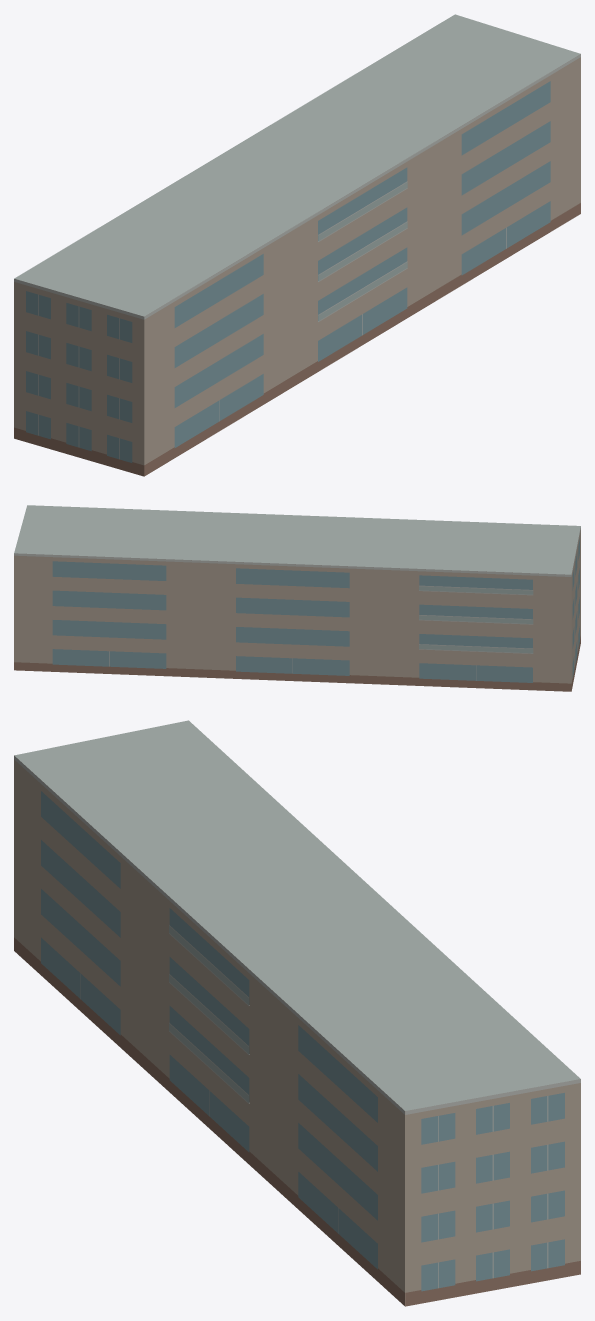
Rendered from survey-upis-32724367.glb.
The picture shows the model from 3 angles, top to bottom: view 1: azimuth 30°, elevation 25°; view 2: azimuth 150°, elevation 25°; view 3: azimuth 270°, elevation 25°; orthographic projection. The views are drawn at different scales.
Parts seen in each view (by area): view 1: survey-upis-32724367.tmp; view 2: survey-upis-32724367.tmp; view 3: survey-upis-32724367.tmp.
Boxes of the visible parts, box(x1,y1,x2,y2) form: survey-upis-32724367.tmp: box(14, 14, 580, 476); survey-upis-32724367.tmp: box(14, 505, 580, 691); survey-upis-32724367.tmp: box(14, 720, 580, 1306).
Bounding box in the file's own units: 52.31 × 12.2 × 32.08.
